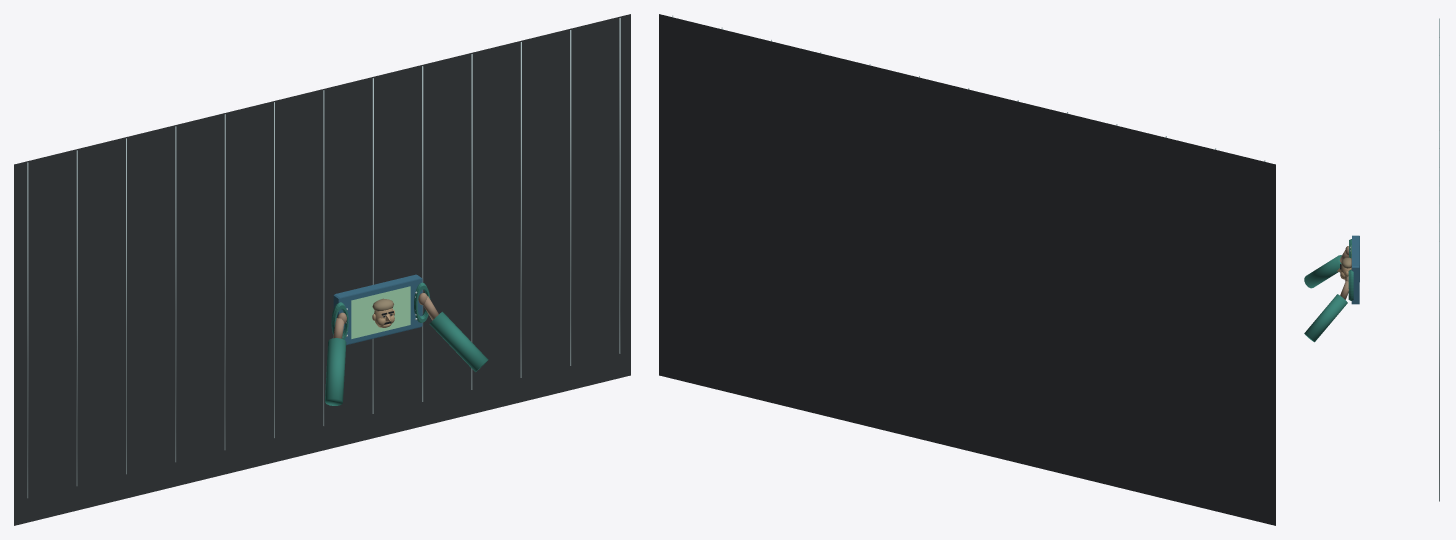
3 views of the same model, side by side, from view 1: azimuth 30°, elevation 25°; view 2: azimuth 150°, elevation 25°; view 3: azimuth 270°, elevation 25° (orthographic). The views are drawn at different scales.
Parts seen in each view (by area): view 1: Q / handheld view floor, Q / pad housing, Q / pad screen, Q / green sleeve.001, Q / green sleeve; view 2: Q / handheld view floor; view 3: Q / green sleeve.001, Q / green sleeve, Q / pad housing, Q / floor panel seam.012, Q / green oval grip.001.
Part boxes in pixels (bbox=[...]): Q / handheld view floor: bbox=[14, 14, 630, 525]; Q / pad housing: bbox=[333, 274, 422, 344]; Q / pad screen: bbox=[351, 286, 410, 338]; Q / green sleeve.001: bbox=[429, 311, 488, 371]; Q / green sleeve: bbox=[325, 338, 346, 405]; Q / handheld view floor: bbox=[659, 14, 1275, 525]; Q / green sleeve.001: bbox=[1304, 294, 1347, 342]; Q / green sleeve: bbox=[1304, 255, 1341, 288]; Q / pad housing: bbox=[1351, 235, 1359, 304]; Q / floor panel seam.012: bbox=[1439, 242, 1439, 501]; Q / green oval grip.001: bbox=[1348, 269, 1353, 300].
Size of the model in its own units: 25 by 14 by 6.24.
